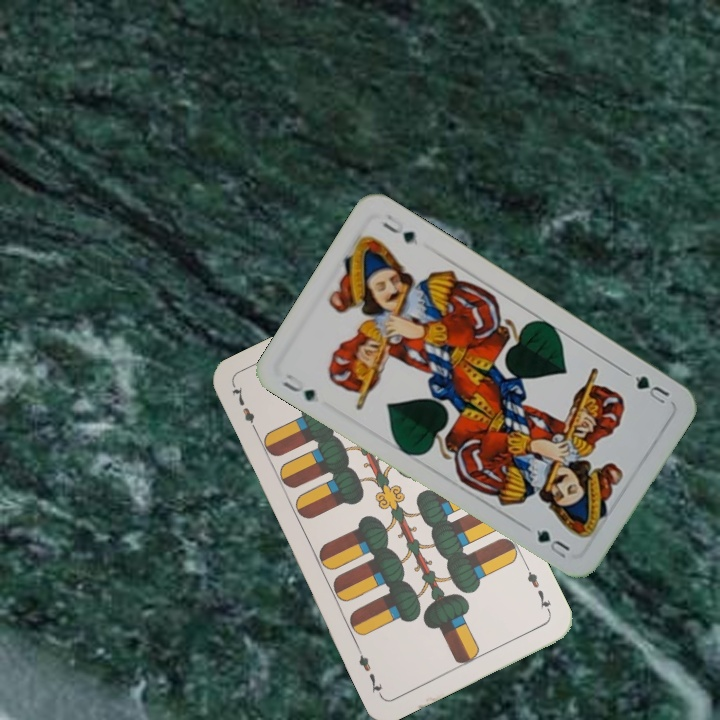E7: (521, 561, 554, 617), (228, 382, 261, 437)
GU: (630, 371, 672, 407), (278, 370, 318, 404)
